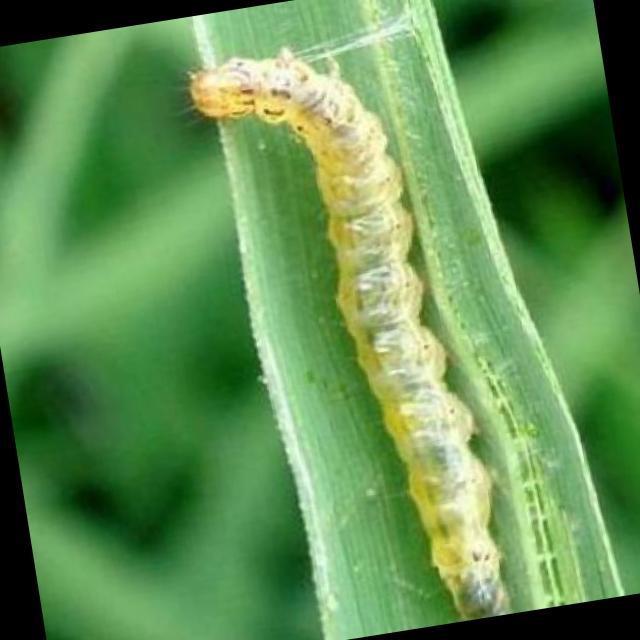leaf-folder: (155, 20, 537, 640)
